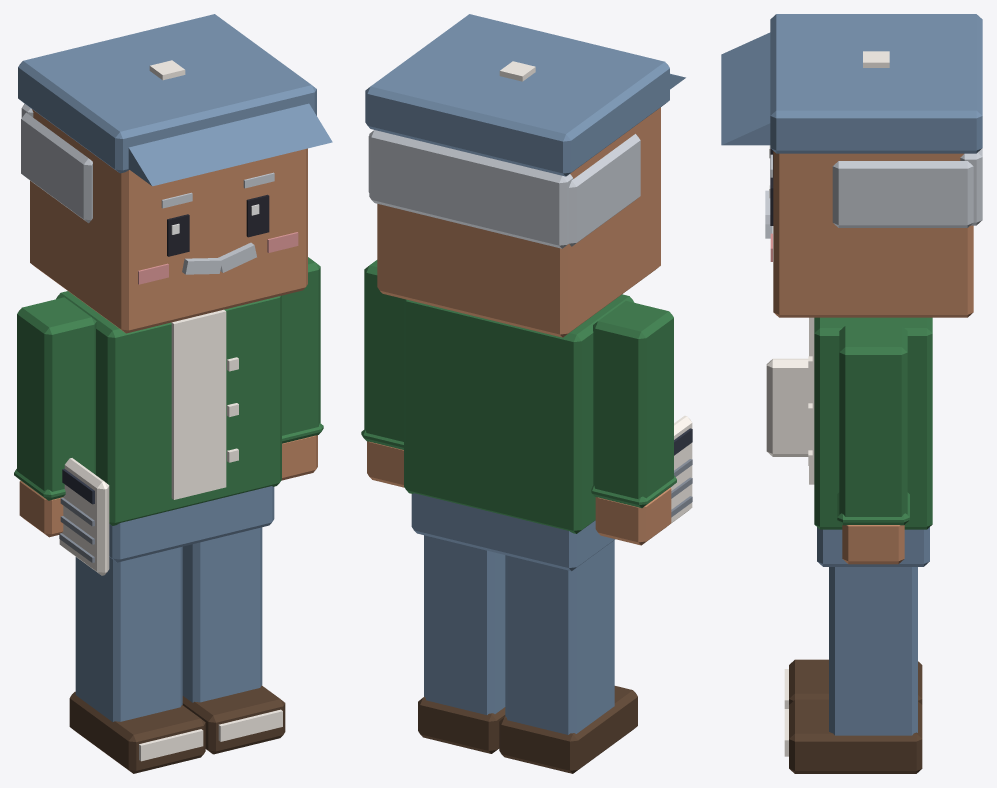
The model's file is CatCafe_NPC_Customer_K.glb.
3 renders of one model, left to right at view 1: azimuth 30°, elevation 25°; view 2: azimuth 150°, elevation 25°; view 3: azimuth 270°, elevation 25°, orthographic. The views are drawn at different scales.
Visible parts, largest first — view 1: CatCafe_NPC_Customer_K; view 2: CatCafe_NPC_Customer_K; view 3: CatCafe_NPC_Customer_K.
Boxes of the visible parts, box(x1,y1,x2,y2) form: CatCafe_NPC_Customer_K: box(14, 14, 332, 773); CatCafe_NPC_Customer_K: box(361, 14, 692, 773); CatCafe_NPC_Customer_K: box(721, 14, 982, 773).
Bounding box in the file's own units: 2.25 × 5.06 × 1.76.
Materials: 1 (1 with a texture image).
